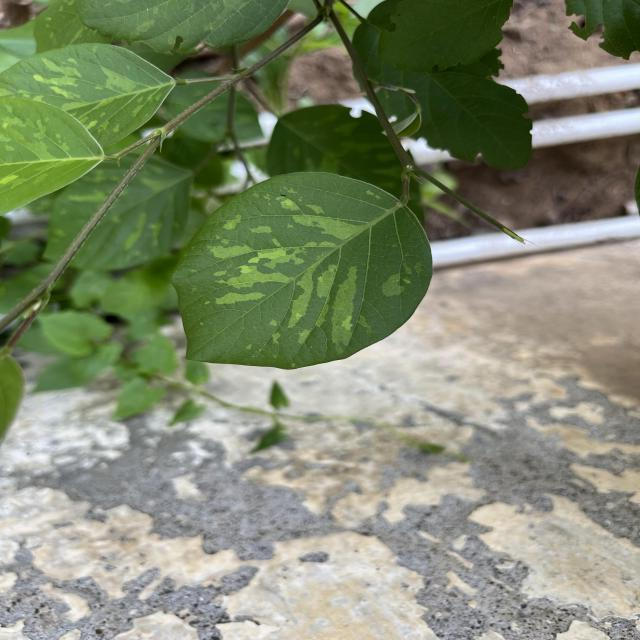Desmodium gangeticum: (165, 168, 439, 376)
